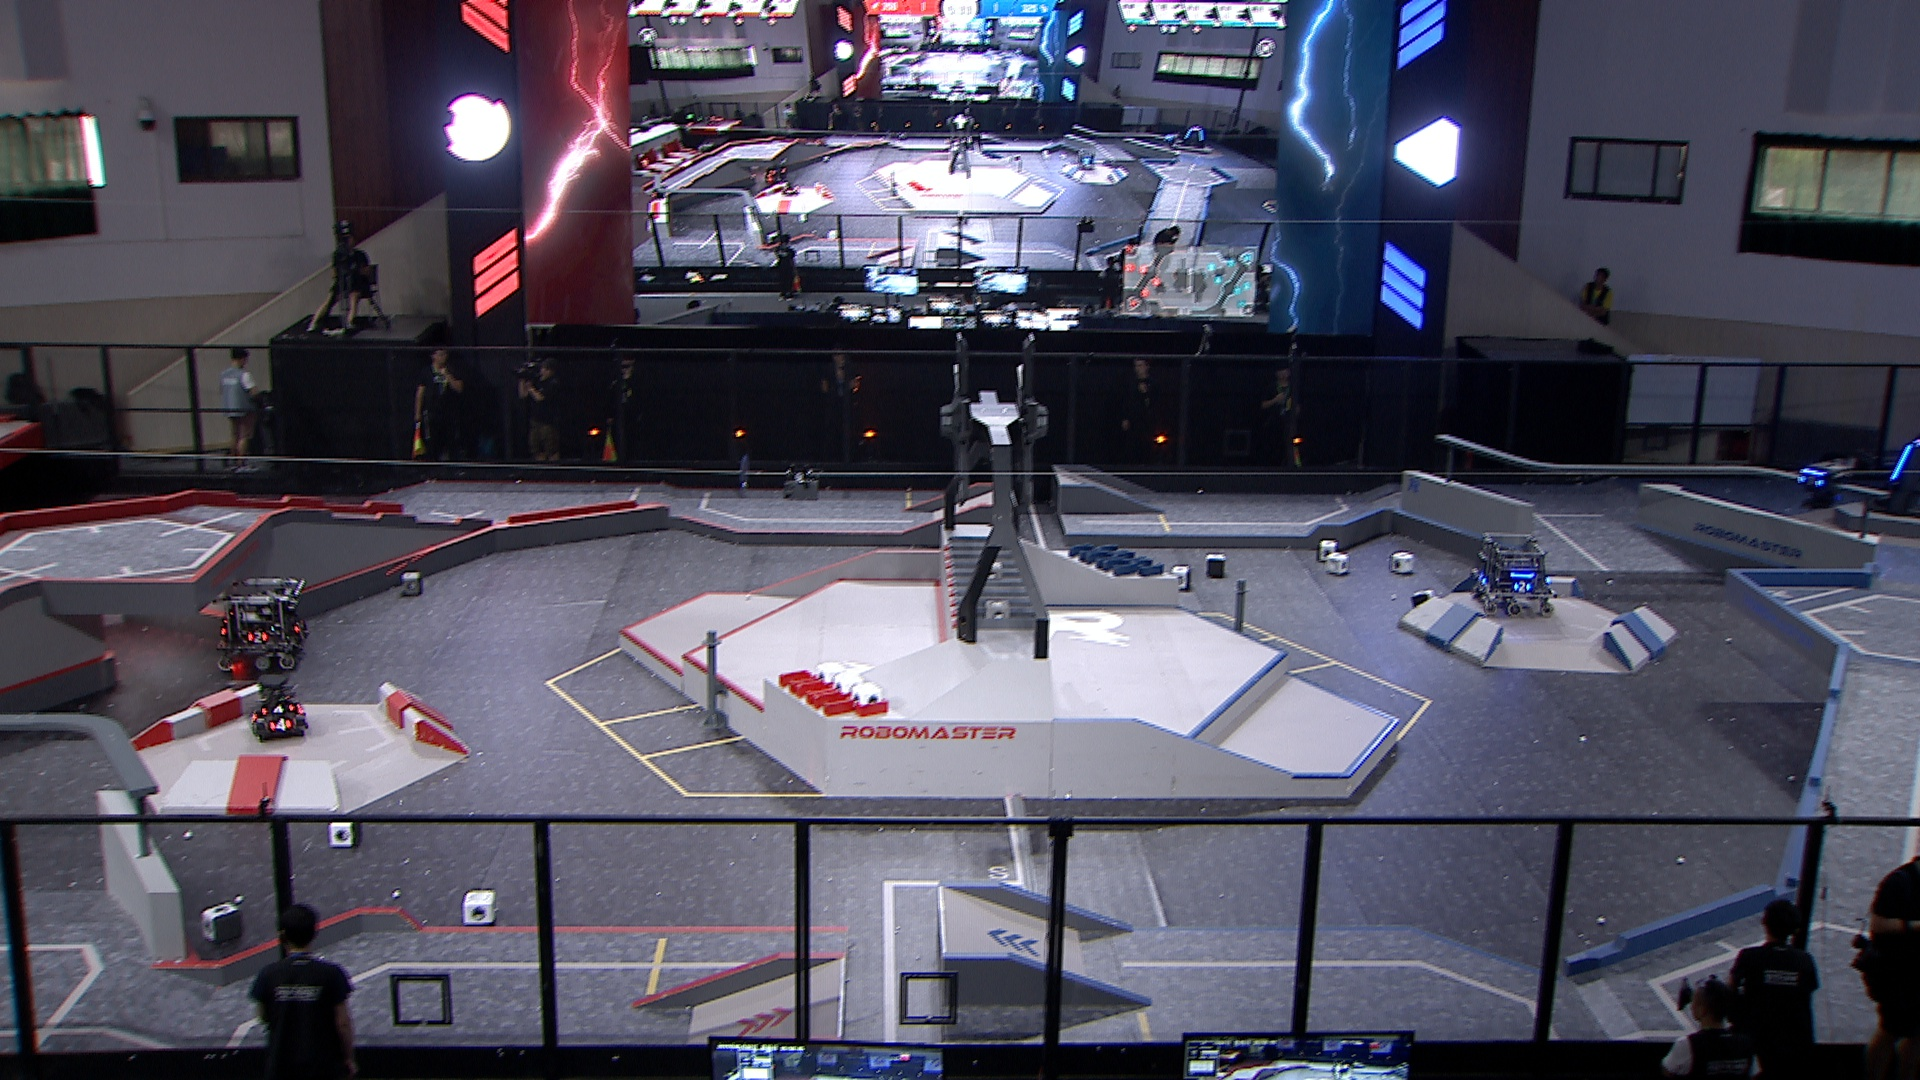armor: (1888, 442, 1913, 483), (258, 702, 297, 716), (1797, 471, 1825, 491), (268, 717, 291, 732), (1472, 570, 1489, 589), (1509, 580, 1528, 593), (248, 632, 266, 644), (291, 618, 305, 632)
base: (1869, 433, 1920, 524)
car: (214, 572, 309, 678), (1466, 527, 1561, 618), (247, 679, 311, 744)
ignore: (760, 162, 790, 187), (1178, 124, 1207, 145), (1076, 152, 1098, 171), (1163, 129, 1182, 149)
watcher: (1788, 451, 1840, 518)
